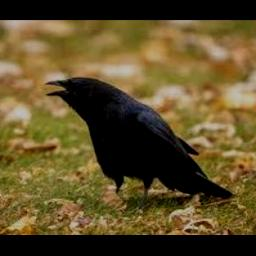Crow: (45, 76, 234, 210)
